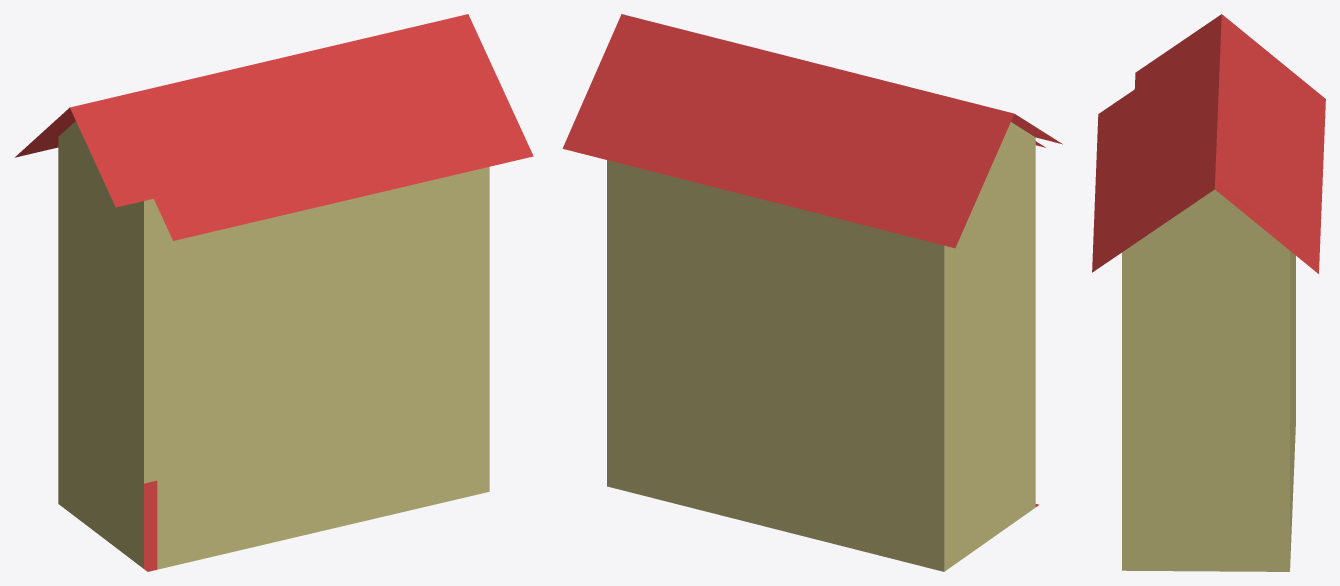
3 renders of one model, left to right at view 1: azimuth 30°, elevation 25°; view 2: azimuth 150°, elevation 25°; view 3: azimuth 270°, elevation 25°, orthographic. The views are drawn at different scales.
Bounding box in the file's own units: 7.1 × 3.97 × 7.39.
